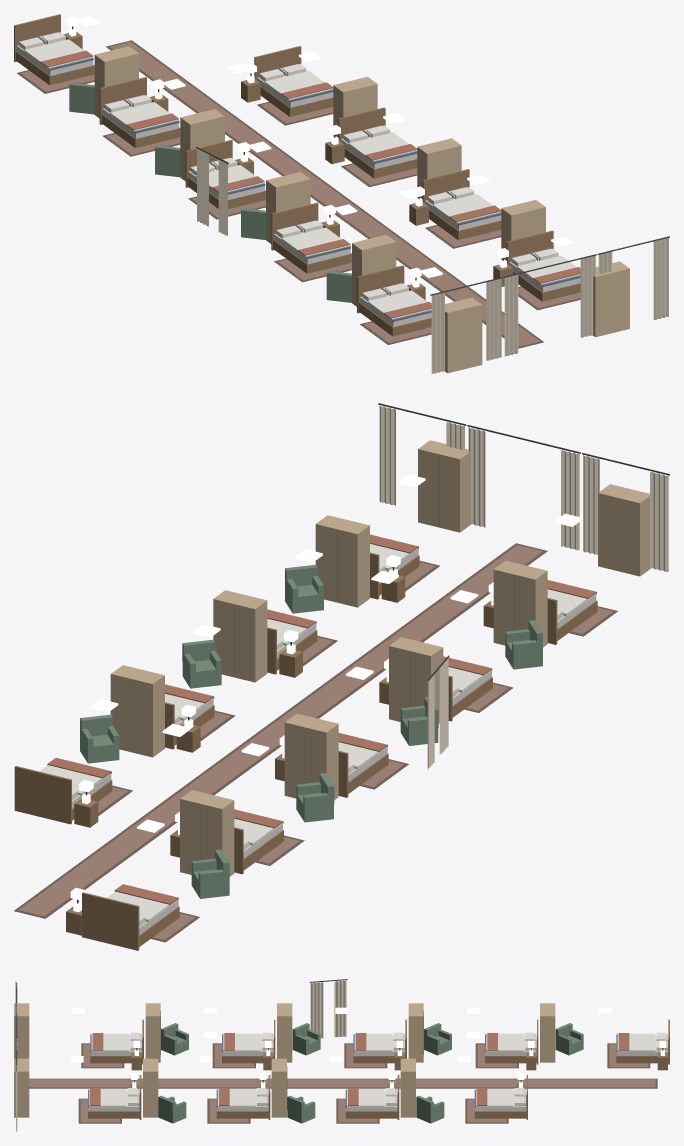
The model's file is fine-s1.glb.
The picture shows the model from 3 angles, top to bottom: view 1: azimuth 30°, elevation 25°; view 2: azimuth 150°, elevation 25°; view 3: azimuth 270°, elevation 25°; orthographic projection. The views are drawn at different scales.
Visible parts, largest first — view 1: soft-s1, dresser.008, dresser.003, bed-frame.005, bed-frame.007, bed-frame.004, bed-frame.008, bed-frame.001, bed-frame.000, bed-frame.002, bed-frame.003, bed-frame.006 (+11 smaller); view 2: soft-s1, dresser.001, dresser.008, dresser.002, dresser.000, dresser.003, dresser.007, dresser.005, dresser.004, bed-frame.004, dresser.006, bed-frame.000 (+14 smaller); view 3: soft-s1, dresser.001, dresser.004, dresser.000, dresser.002, dresser.005, dresser.006, dresser.007, dresser.003, bed-frame.001, bed-frame.002, bed-frame.003 (+14 smaller).
Boxes of the visible parts, x1,y1,x2,y2 form: soft-s1: [17, 16, 669, 374]; dresser.008: [445, 297, 482, 373]; dresser.003: [592, 261, 629, 337]; bed-frame.005: [99, 77, 179, 147]; bed-frame.007: [271, 202, 351, 273]; bed-frame.004: [14, 14, 94, 85]; bed-frame.008: [357, 265, 431, 336]; bed-frame.001: [338, 107, 417, 178]; bed-frame.000: [254, 46, 333, 116]; bed-frame.002: [422, 169, 501, 239]; bed-frame.003: [506, 230, 580, 301]; bed-frame.006: [185, 140, 265, 209]; soft-s1: [14, 403, 669, 942]; dresser.001: [213, 590, 267, 682]; dresser.008: [598, 484, 650, 576]; dresser.002: [315, 515, 369, 607]; dresser.000: [110, 665, 164, 757]; dresser.003: [418, 440, 470, 532]; dresser.007: [493, 560, 547, 647]; dresser.005: [284, 713, 338, 799]; dresser.004: [180, 790, 234, 876]; bed-frame.004: [82, 892, 179, 950]; dresser.006: [389, 637, 443, 723]; bed-frame.000: [14, 766, 112, 824]; soft-s1: [15, 979, 666, 1131]; dresser.001: [271, 1058, 287, 1117]; dresser.004: [540, 1003, 555, 1062]; dresser.000: [400, 1058, 415, 1117]; dresser.002: [143, 1058, 158, 1117]; dresser.005: [408, 1003, 423, 1062]; dresser.006: [277, 1003, 292, 1062]; dresser.007: [145, 1003, 160, 1062]; dresser.003: [14, 1058, 29, 1117]; bed-frame.001: [345, 1075, 399, 1119]; bed-frame.002: [216, 1075, 270, 1119]; bed-frame.003: [88, 1075, 141, 1119].
Size of the model in its own units: 8.94 by 2.71 by 25.75.
